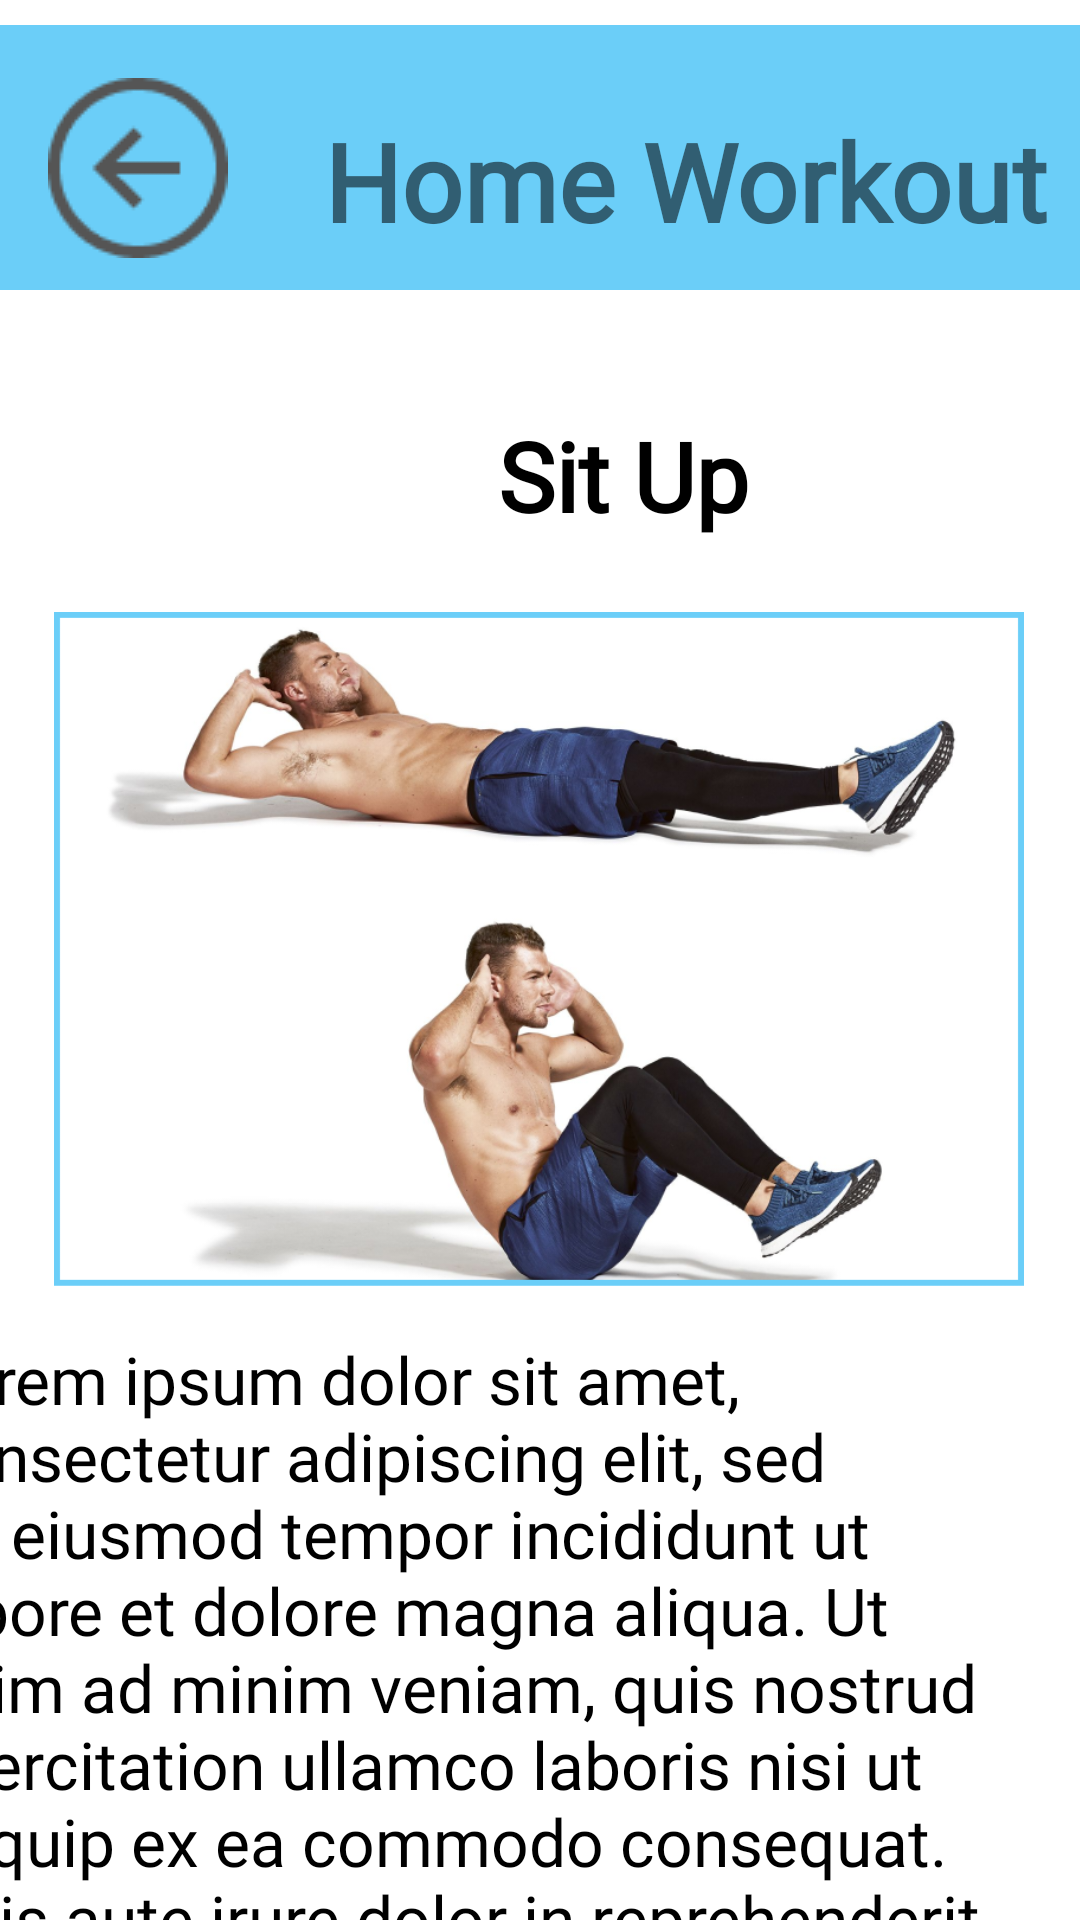

Screen size 1080 x 1920. Icon name, then its center in pixels as (x=x, y=y):
backbtn: (x=138, y=168)
